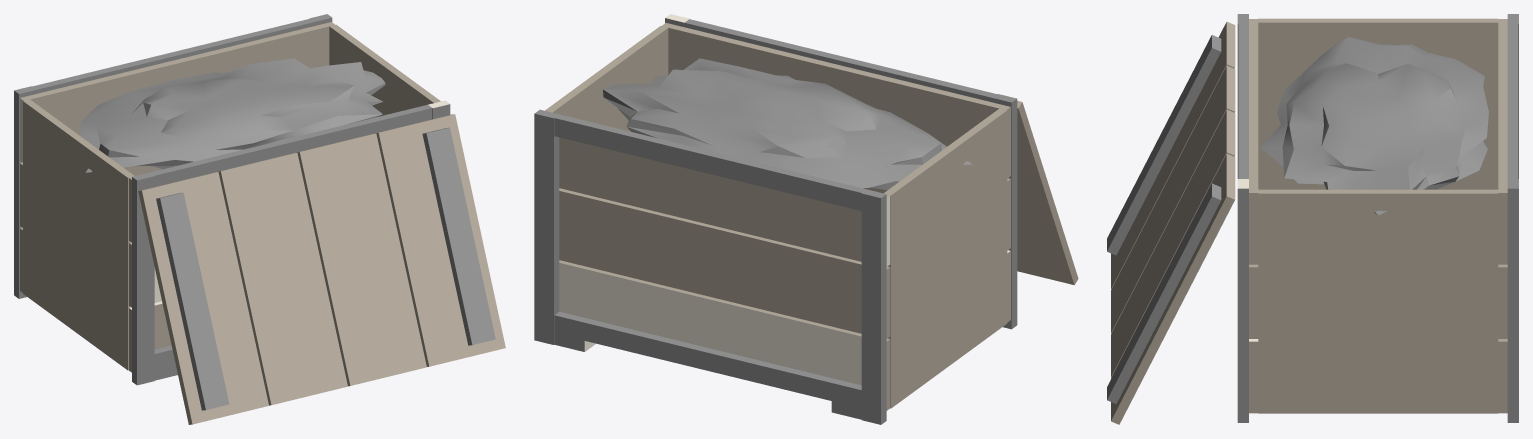
File: crate_open.glb
3 renders of one model, left to right at view 1: azimuth 30°, elevation 25°; view 2: azimuth 150°, elevation 25°; view 3: azimuth 270°, elevation 25°, orthographic. The views are drawn at different scales.
Parts seen in each view (by area): view 1: crate; view 2: crate; view 3: crate.
Part boxes in pixels (x1,y1,x2,y2): crate: (14,14,505,424); crate: (534,14,1078,424); crate: (1107,14,1518,424).
Size of the model in its own units: 0.8303 by 0.5076 by 0.7967.
